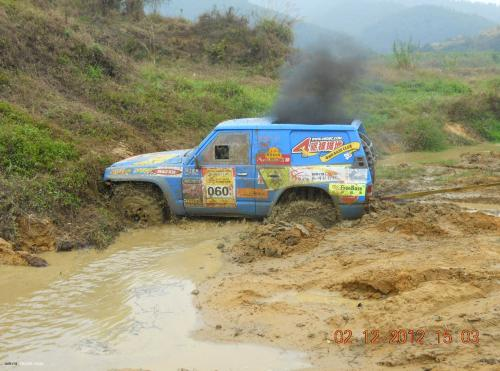smoke: (265, 44, 366, 124)
